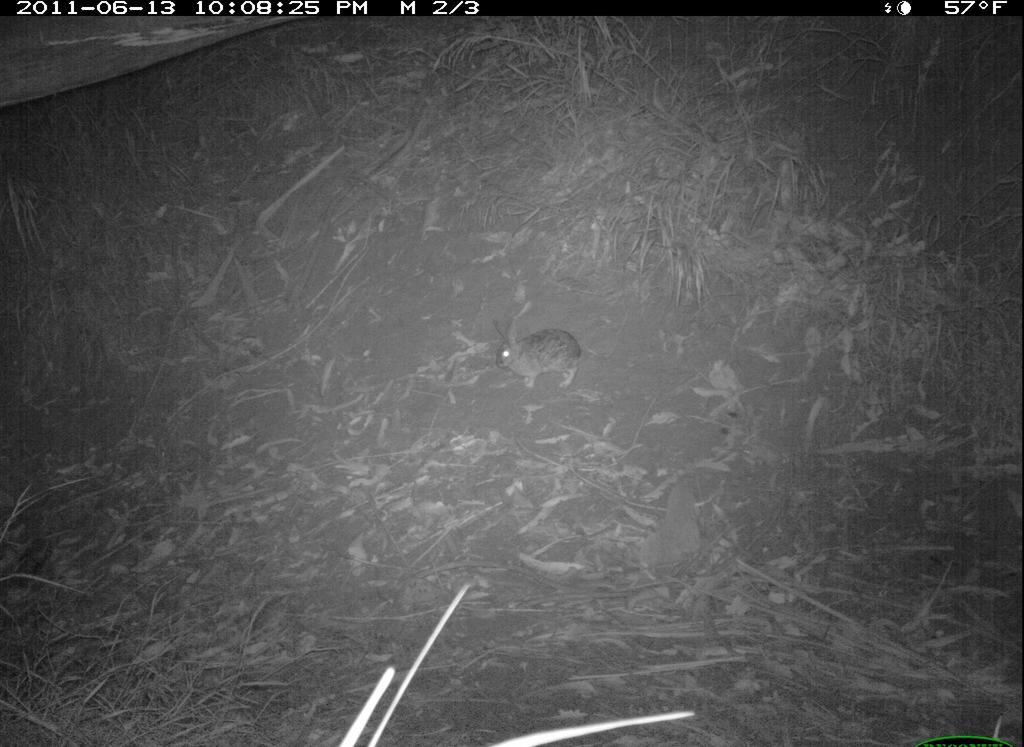rabbit: (488, 313, 612, 406)
